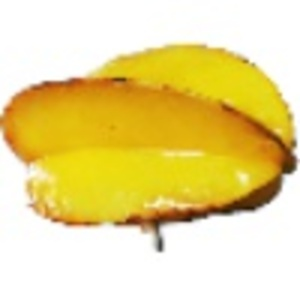carambola: (1, 41, 300, 246)
